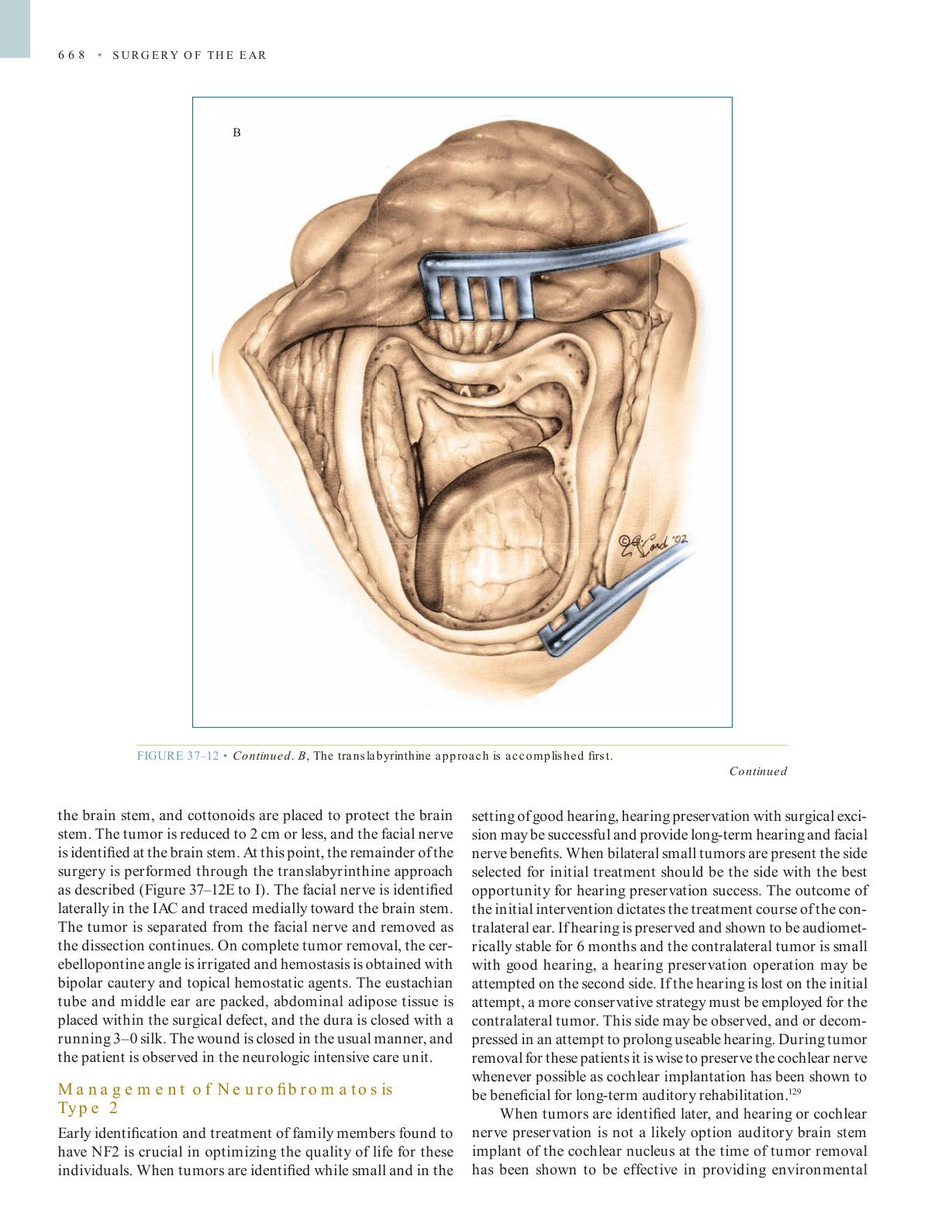caption: (135, 747, 617, 766), (231, 126, 243, 139)
header: (110, 47, 268, 63)
image: (202, 105, 721, 722)
sub-section-heading: (55, 1080, 395, 1118)
text: (470, 808, 869, 1181), (56, 807, 455, 1067), (56, 1122, 456, 1181)
